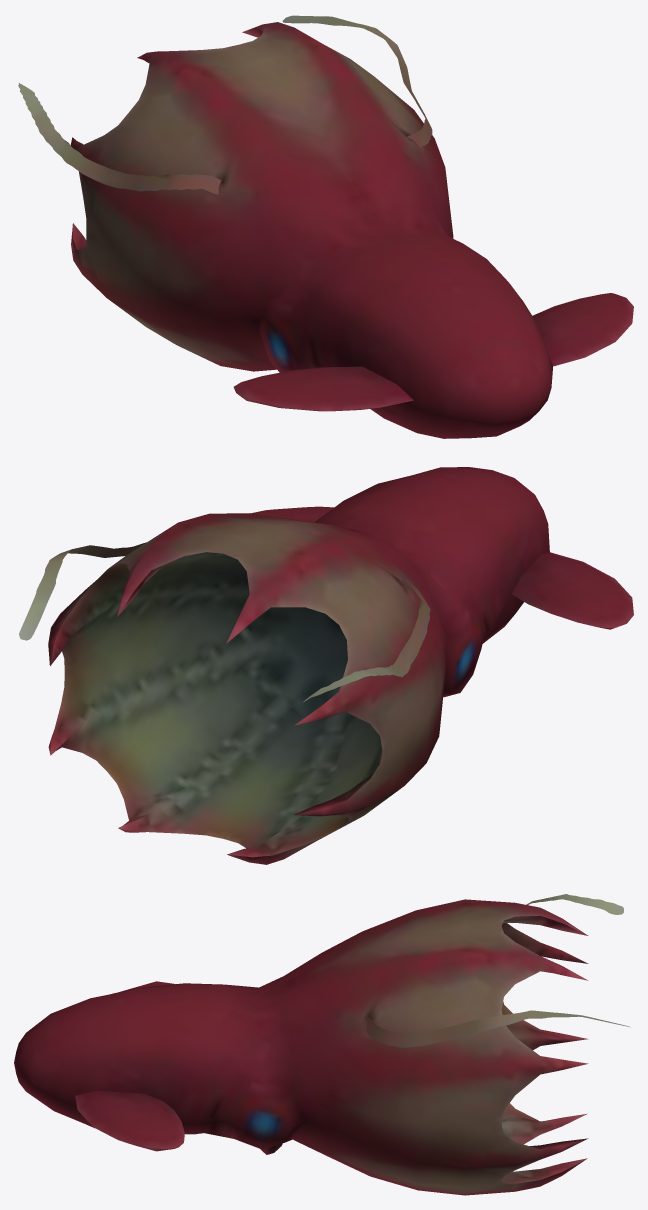
The model's file is vampire-squid.glb.
3 renders of one model, top to bottom at view 1: azimuth 30°, elevation 25°; view 2: azimuth 150°, elevation 25°; view 3: azimuth 270°, elevation 25°, orthographic. The views are drawn at different scales.
Bounding box in the file's own units: 4.19 × 2.82 × 6.6.
Materials: 1 (1 with a texture image).
